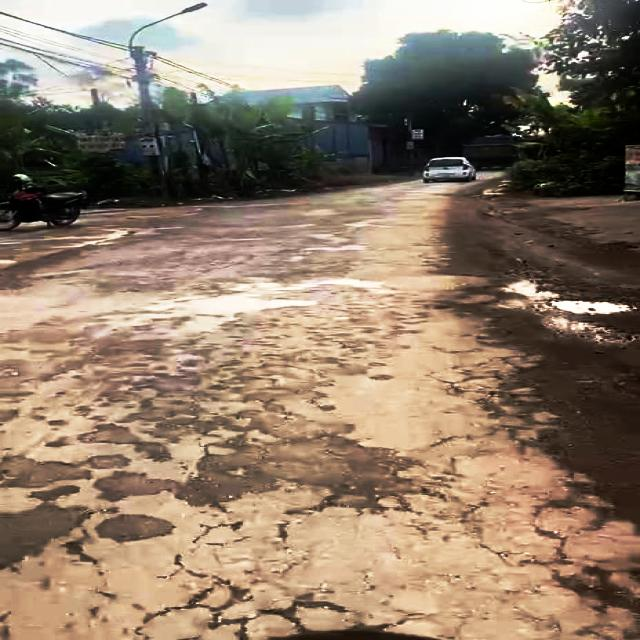pothole: (442, 346, 616, 448), (132, 573, 388, 640), (503, 275, 640, 348), (549, 552, 640, 613)
